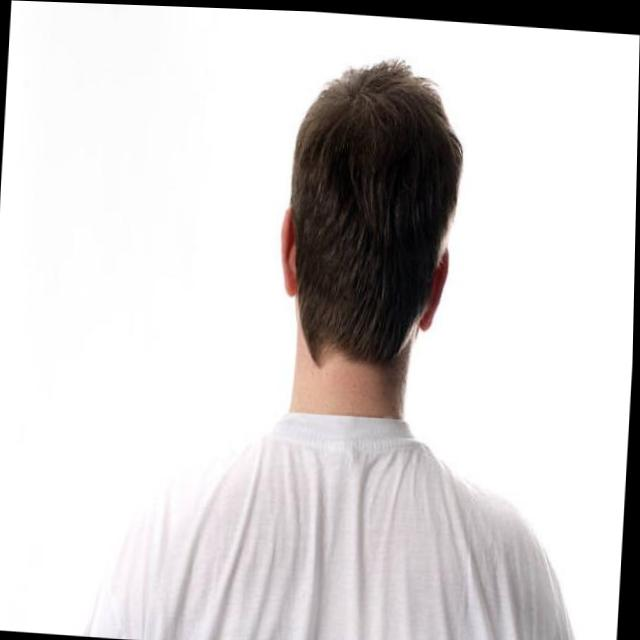no helmet: (276, 52, 470, 372)
